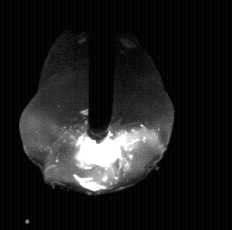arame: (89, 0, 113, 143)
poca: (18, 0, 174, 230)
